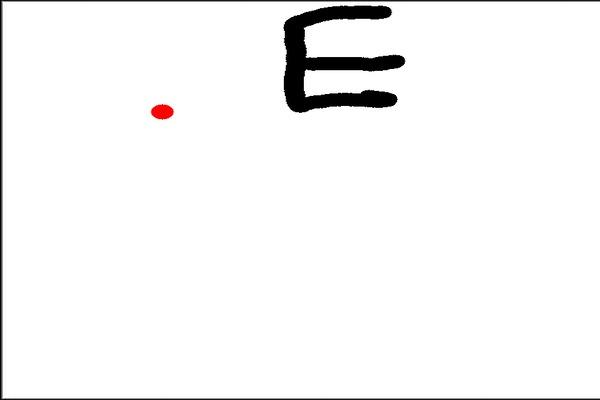E: (278, 2, 409, 120)
